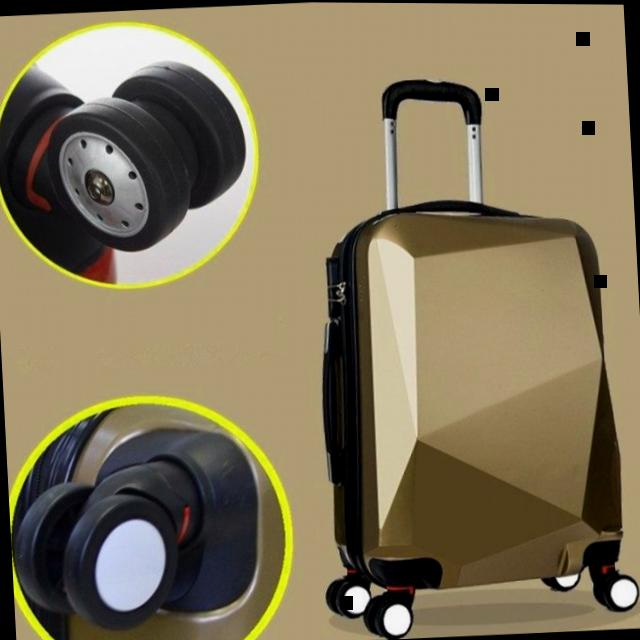luggage: (306, 186, 630, 605)
